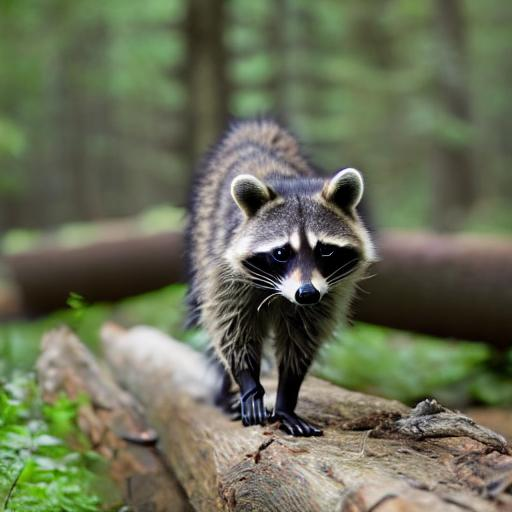raccoon: (173, 109, 383, 371)
